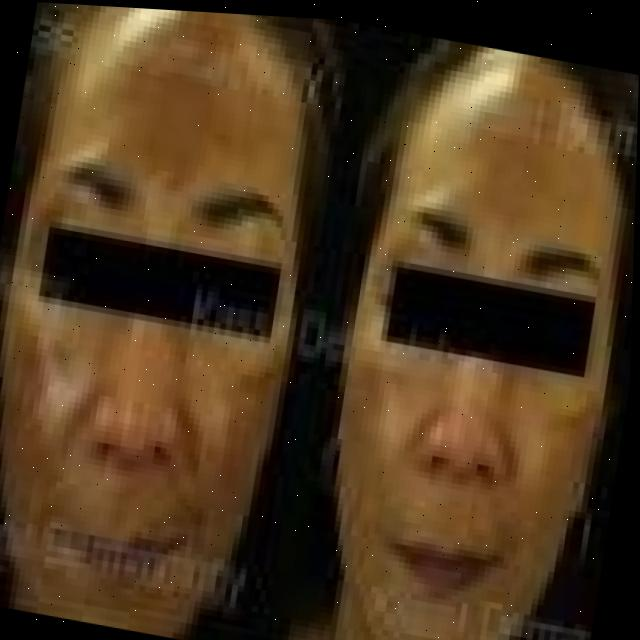Melasma: (63, 4, 292, 193), (417, 63, 602, 248), (0, 298, 99, 522), (485, 385, 594, 577), (177, 349, 275, 553), (327, 359, 417, 529)
